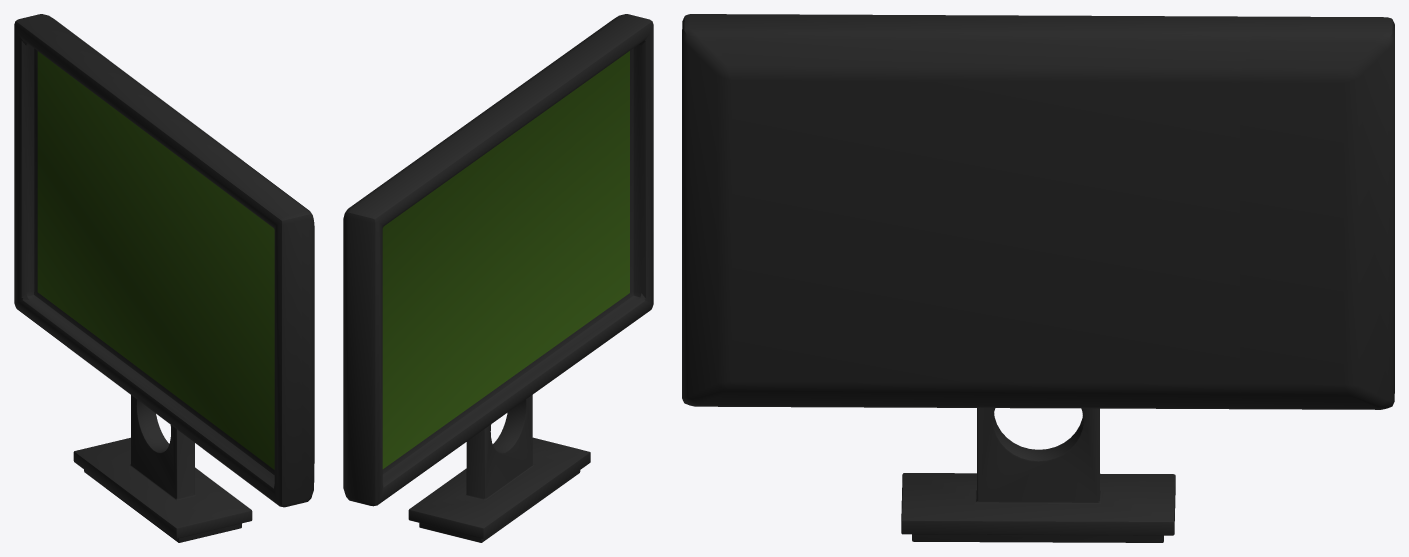
Rendered from computer-monitor.glb.
The picture shows the model from 3 angles, left to right: view 1: azimuth 30°, elevation 25°; view 2: azimuth 150°, elevation 25°; view 3: azimuth 270°, elevation 25°; orthographic projection. The views are drawn at different scales.
Visible parts, largest first — view 1: Object_12; view 2: Object_12; view 3: Object_12.
Boxes of the visible parts, x1,y1,x2,y2 form: Object_12: (14,14,314,542); Object_12: (343,14,653,542); Object_12: (682,14,1394,542).
Size of the model in its own units: 0.18 by 0.8521 by 1.1.
1 material, 1 textured.
